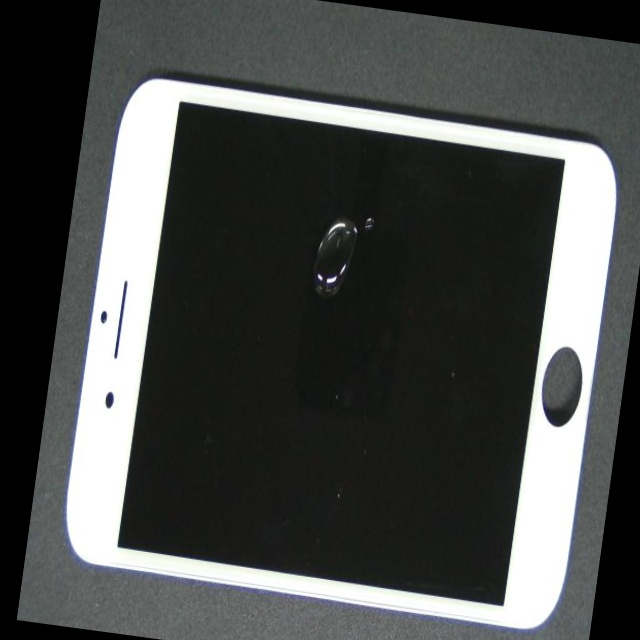oil: (188, 137, 509, 381)
